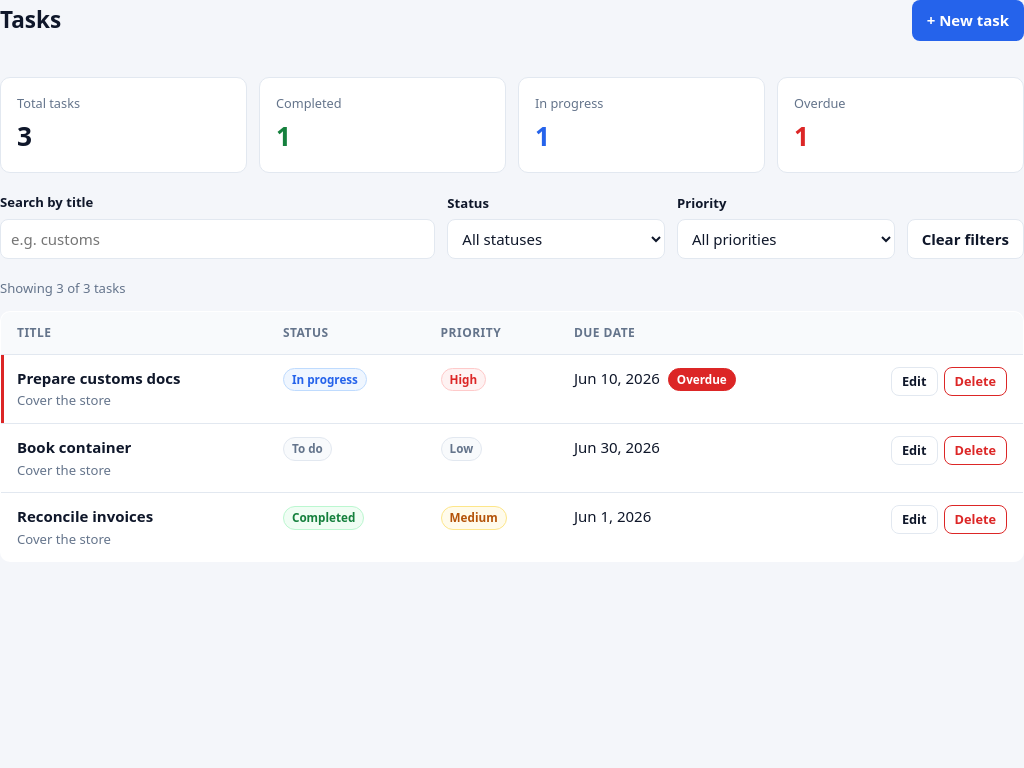
Test case: TaskListPageComponent › asks for confirmation before deleting and removes the task on confirm
What coordinates should you click on to do the following:
click the button with test id "delete-button" in the row of "Book container"
I would click on:
 (975, 451)
Its box is 944,436 -> 1007,465.
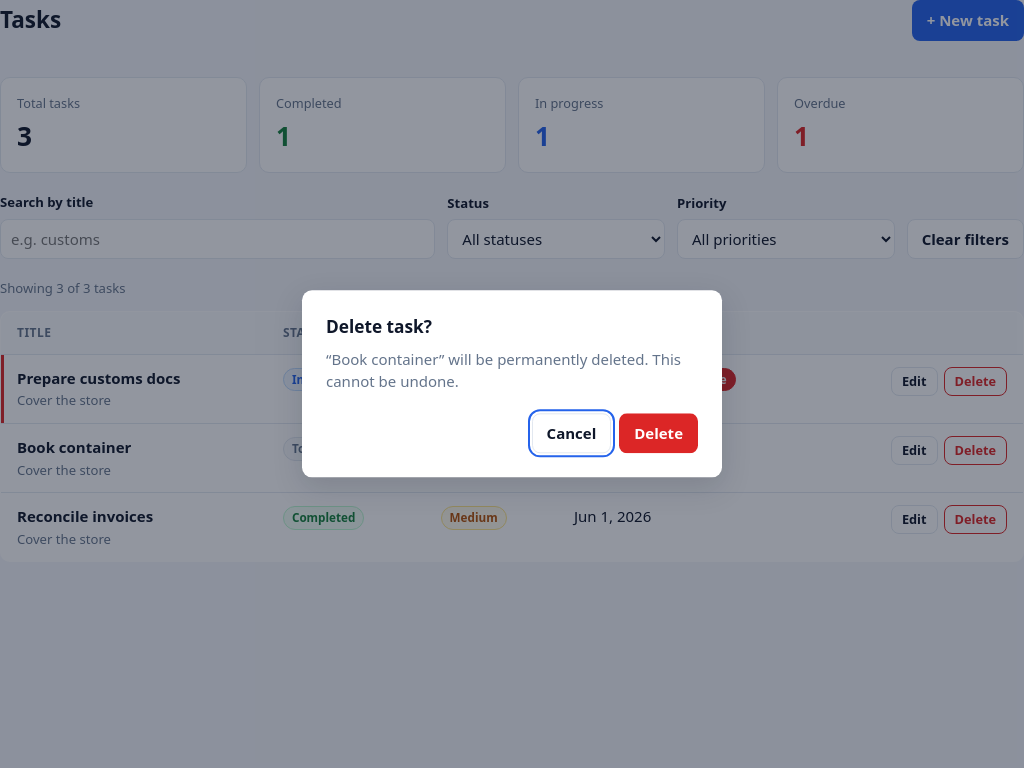
Result: the dialog shows "Book container" at 326,349 -> 681,392
What coordinates should you click on to do the following:
click the button with test id "confirm-button"
I would click on:
 (659, 433)
Its box is 619,413 -> 698,454.
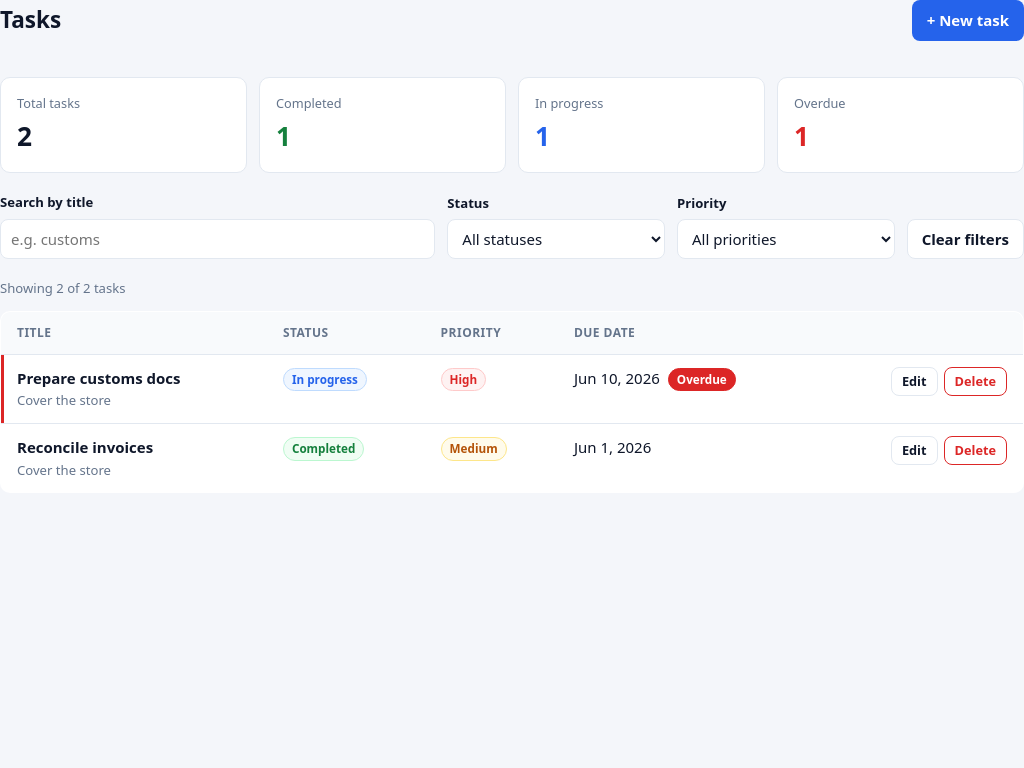
Result: the dialog is gone
